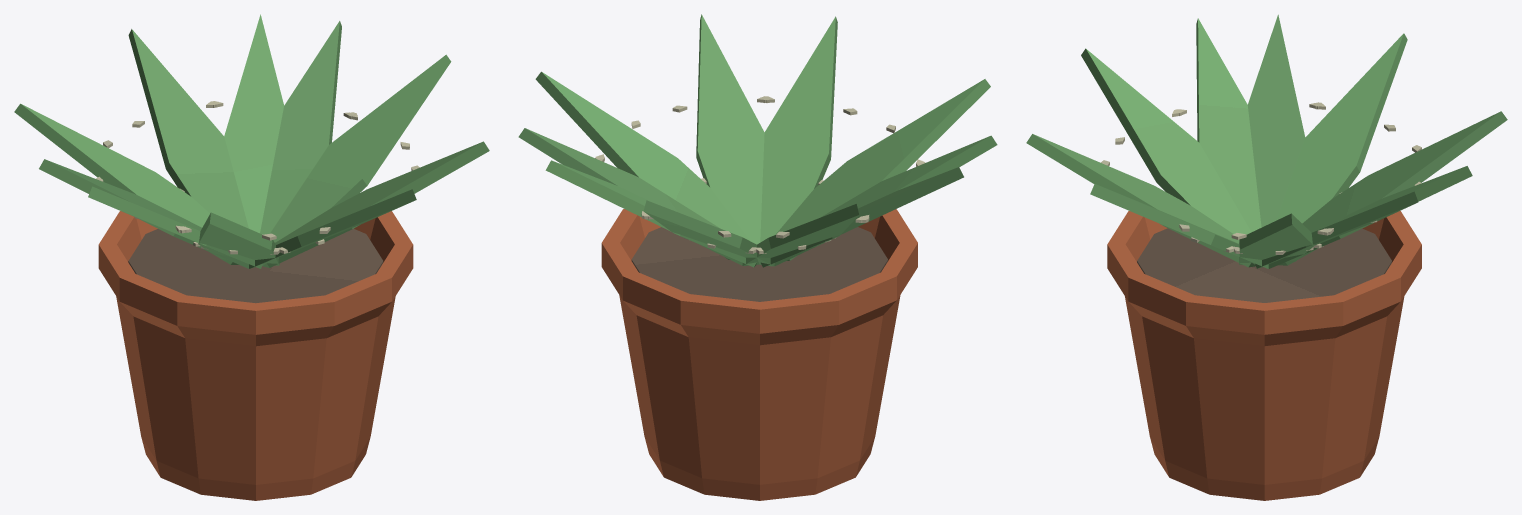
The model's file is aloe.glb.
3 renders of one model, left to right at view 1: azimuth 30°, elevation 25°; view 2: azimuth 150°, elevation 25°; view 3: azimuth 270°, elevation 25°, orthographic.
Visible parts, largest first — view 1: aloe/review-terra-vessel, aloe/review-rooted-soil, aloe/leaf-016, aloe/leaf-026, aloe/leaf-001, aloe/leaf-041, aloe/leaf-031, aloe/leaf-011, aloe/leaf-021, aloe/leaf-006, aloe/leaf-036, aloe/leaf-046; view 2: aloe/review-terra-vessel, aloe/review-rooted-soil, aloe/leaf-011, aloe/leaf-036, aloe/leaf-026, aloe/leaf-021, aloe/leaf-001, aloe/leaf-046, aloe/leaf-031, aloe/leaf-016, aloe/leaf-041, aloe/leaf-006; view 3: aloe/review-terra-vessel, aloe/review-rooted-soil, aloe/leaf-031, aloe/leaf-021, aloe/leaf-046, aloe/leaf-006, aloe/leaf-016, aloe/leaf-036, aloe/leaf-026, aloe/leaf-011, aloe/leaf-001, aloe/leaf-041.
Boxes of the visible parts, box(x1,y1,x2,y2) form: aloe/review-terra-vessel: box(98, 211, 413, 500); aloe/review-rooted-soil: box(128, 228, 383, 303); aloe/leaf-016: box(128, 29, 248, 228); aloe/leaf-026: box(270, 54, 451, 242); aloe/leaf-001: box(260, 21, 341, 234); aloe/leaf-041: box(224, 14, 284, 233); aloe/leaf-031: box(14, 103, 238, 264); aloe/leaf-011: box(263, 141, 489, 267); aloe/leaf-021: box(198, 212, 279, 265); aloe/leaf-006: box(39, 159, 249, 268); aloe/leaf-036: box(249, 189, 416, 268); aloe/leaf-046: box(88, 186, 262, 268); aloe/review-terra-vessel: box(601, 209, 917, 500); aloe/review-rooted-soil: box(631, 227, 887, 301); aloe/leaf-011: box(696, 14, 764, 244); aloe/leaf-036: box(760, 16, 837, 242); aloe/leaf-026: box(535, 71, 750, 259); aloe/leaf-021: box(775, 79, 990, 260); aloe/leaf-001: box(518, 128, 742, 265); aloe/leaf-046: box(774, 135, 997, 266); aloe/leaf-031: box(742, 204, 858, 265); aloe/leaf-016: box(643, 200, 774, 266); aloe/leaf-041: box(545, 160, 756, 267); aloe/leaf-006: box(761, 167, 963, 267); aloe/review-terra-vessel: box(1107, 211, 1421, 500); aloe/review-rooted-soil: box(1137, 228, 1391, 302); aloe/leaf-031: box(1277, 33, 1407, 223); aloe/leaf-021: box(1081, 48, 1251, 234); aloe/leaf-046: box(1196, 18, 1261, 231); aloe/leaf-006: box(1247, 14, 1305, 227); aloe/leaf-016: box(1278, 111, 1507, 265); aloe/leaf-036: box(1026, 134, 1255, 267); aloe/leaf-026: box(1239, 213, 1314, 264); aloe/leaf-011: box(1090, 184, 1268, 268); aloe/leaf-001: box(1255, 191, 1418, 268); aloe/leaf-041: box(1268, 166, 1472, 268).
Size of the model in its own units: 0.2926 by 0.2269 by 0.2909.
4 materials, 4 textured.
